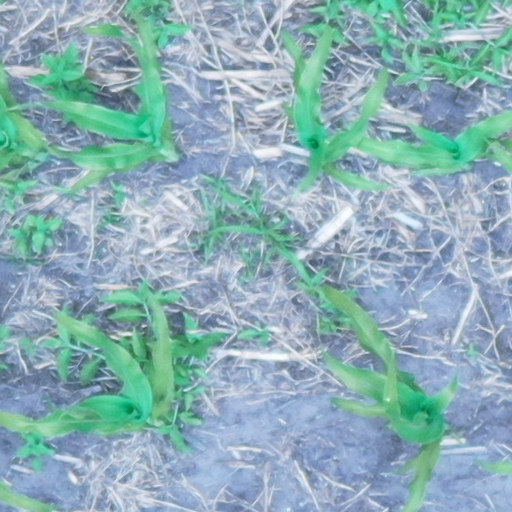planta: (33, 12, 177, 195), (283, 23, 384, 194)
